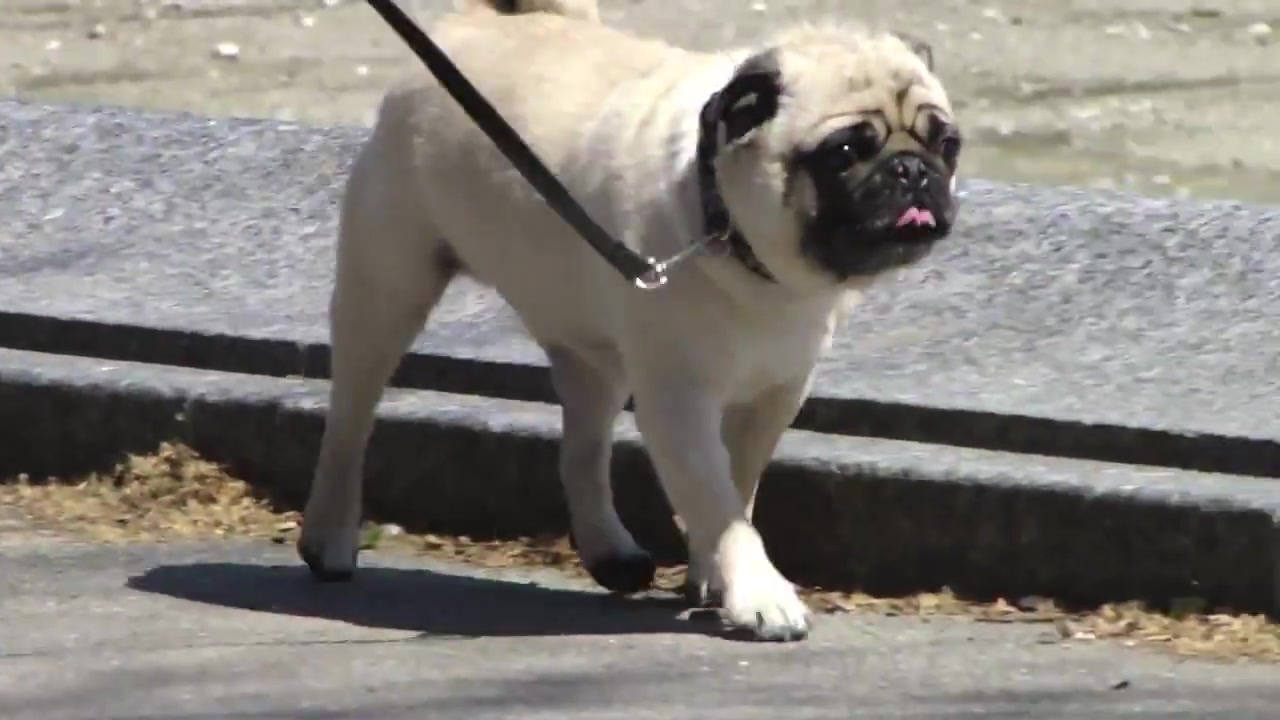dog: (297, 4, 965, 644)
